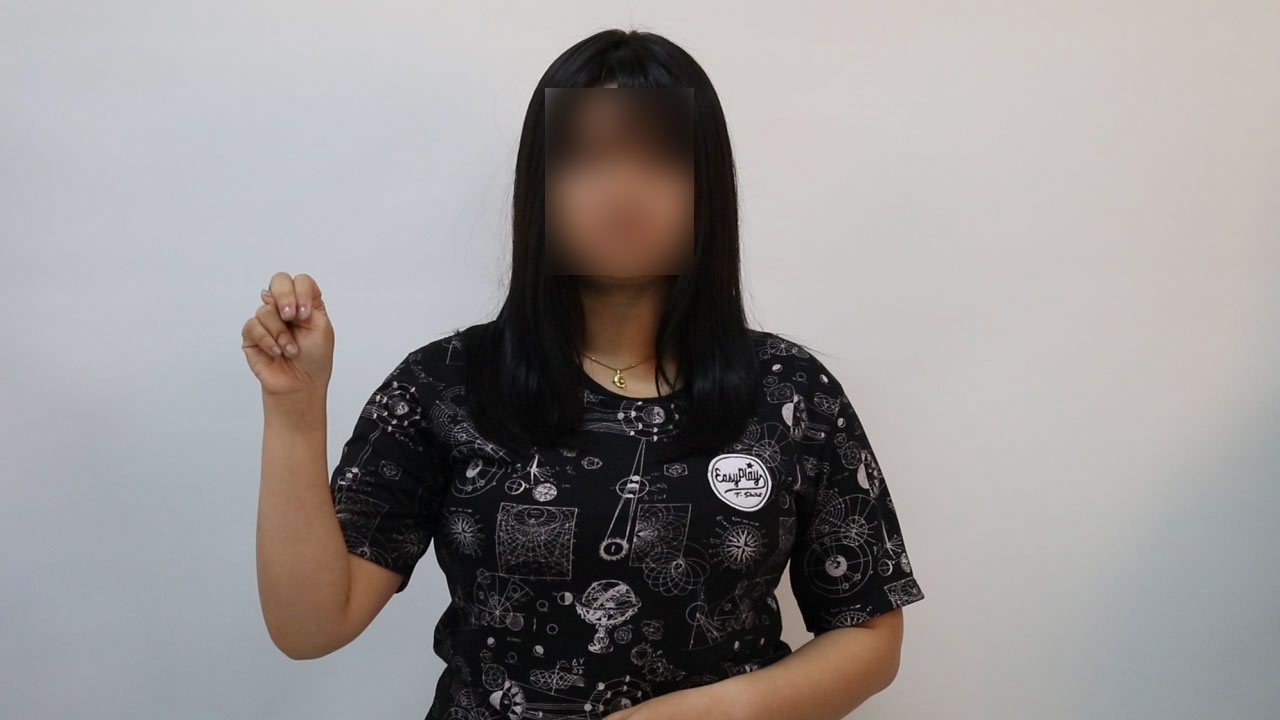nor: (221, 256, 355, 414)
